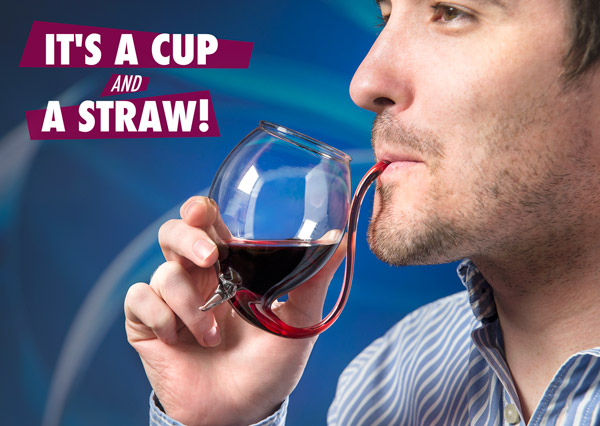drinking: (172, 1, 583, 362)
